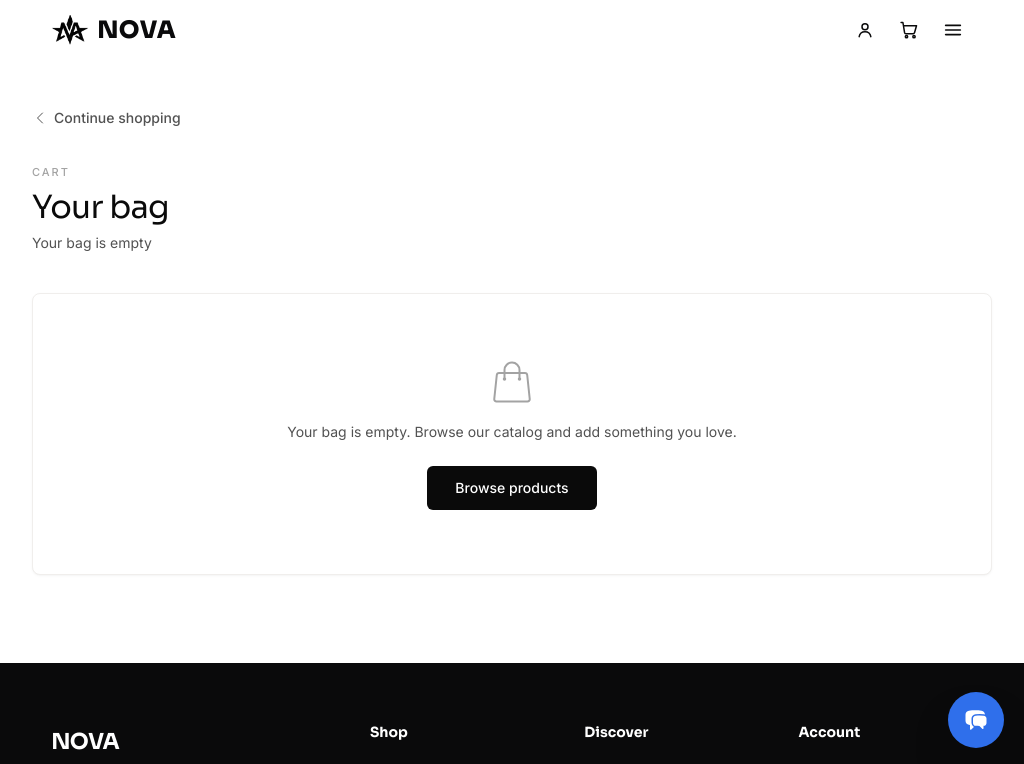
NOVA storefront › shows an empty guest cart and links back to the catalog
Expected: the heading "Your bag" is shown, top-left (32, 186), bottom-right (169, 226)
Expected: the text "Your bag is empty. Browse our catalog" is shown, top-left (287, 423), bottom-right (737, 440)
Click the link "Browse products": (512, 488) top-left (427, 466), bottom-right (596, 510)
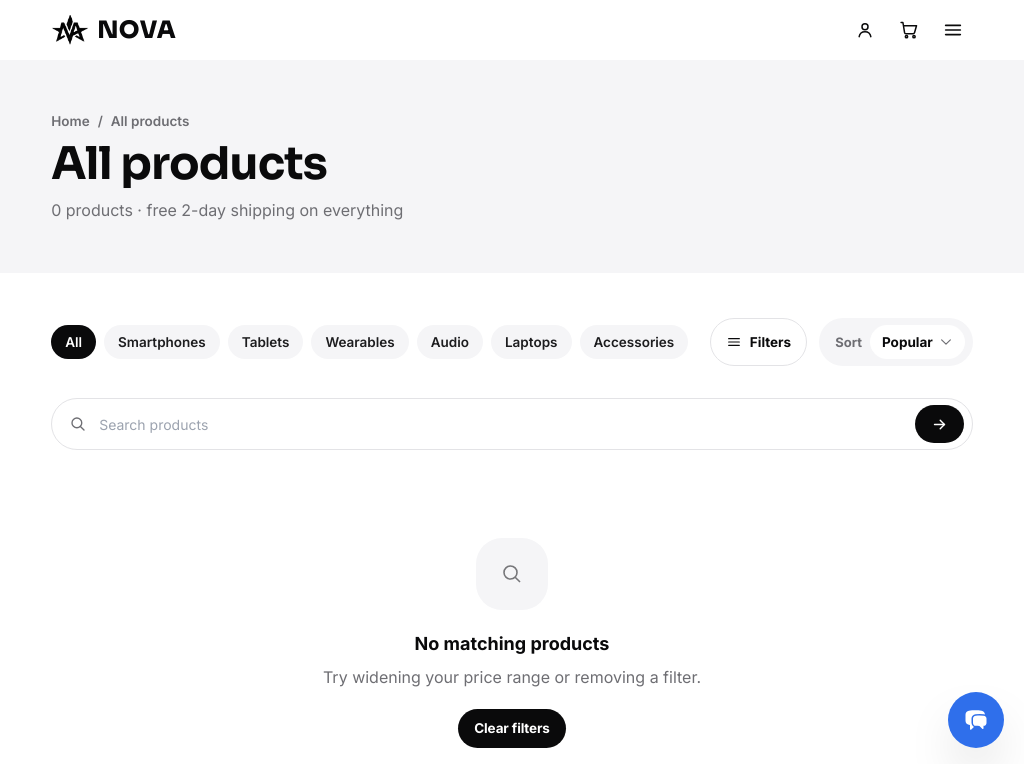
Result: the heading "All products" is shown at top-left (51, 135), bottom-right (327, 192)
